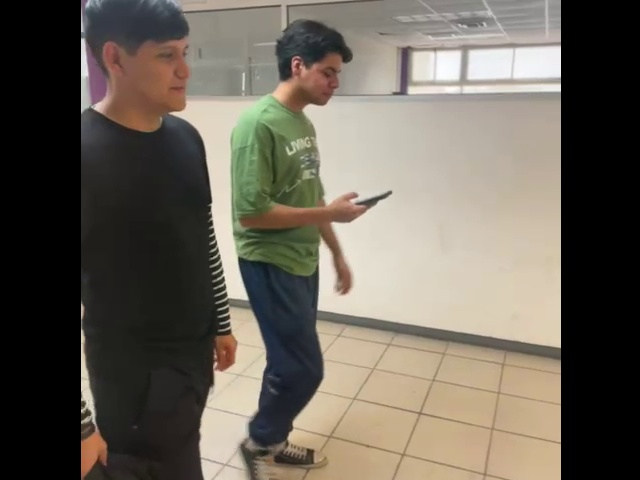mixto2: (339, 187, 397, 210)
